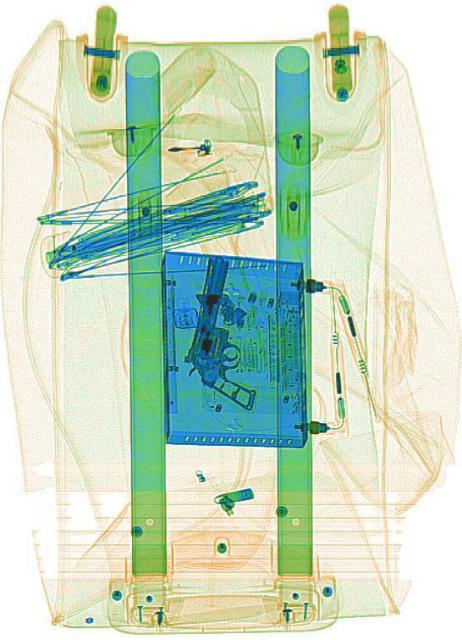Gun: (177, 250, 279, 412)
